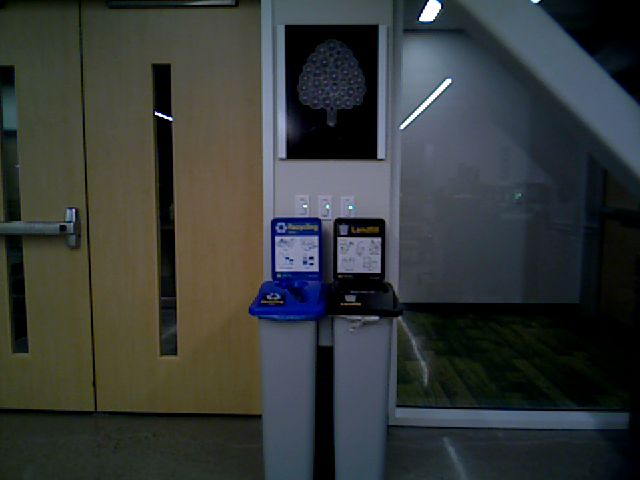painting1: (274, 25, 389, 164)
